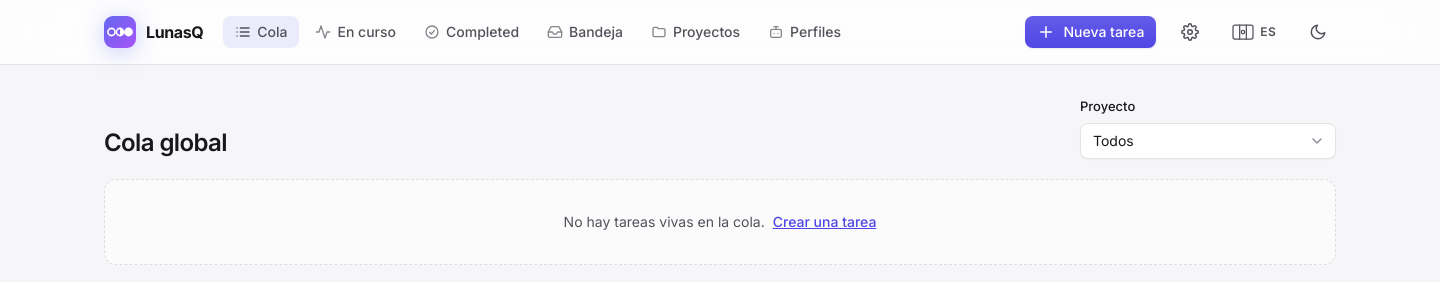
Test case: language toggle › clicking switches every text to English, says EN with the US flag and stores en
This screenshot has width=1440, height=282.
Click the button with aria-label "Cambiar a inglés".
click(1254, 32)  # box [1224,14,1284,50]
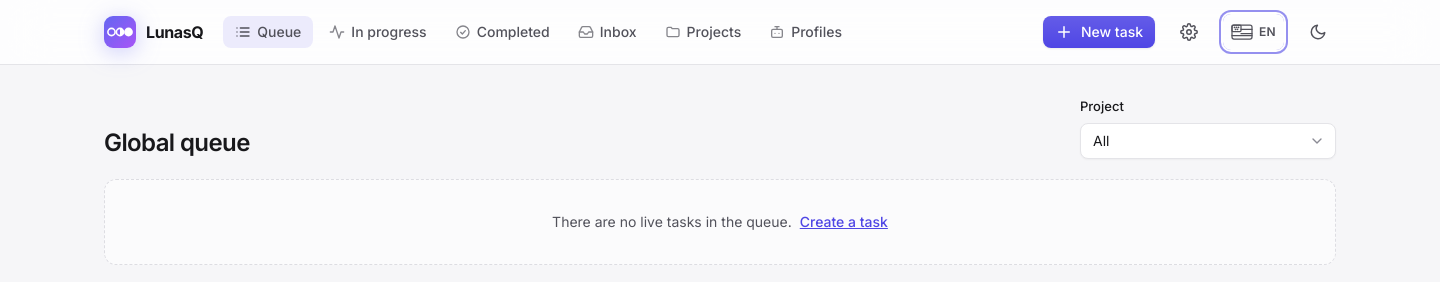
Expected: the button with aria-label "Switch to Spanish" reads "EN", [1223,14,1284,50]
Expected: the heading "Global queue" is shown, [104,126,250,158]
Expected: the link "New task" is shown, [1043,16,1155,48]
